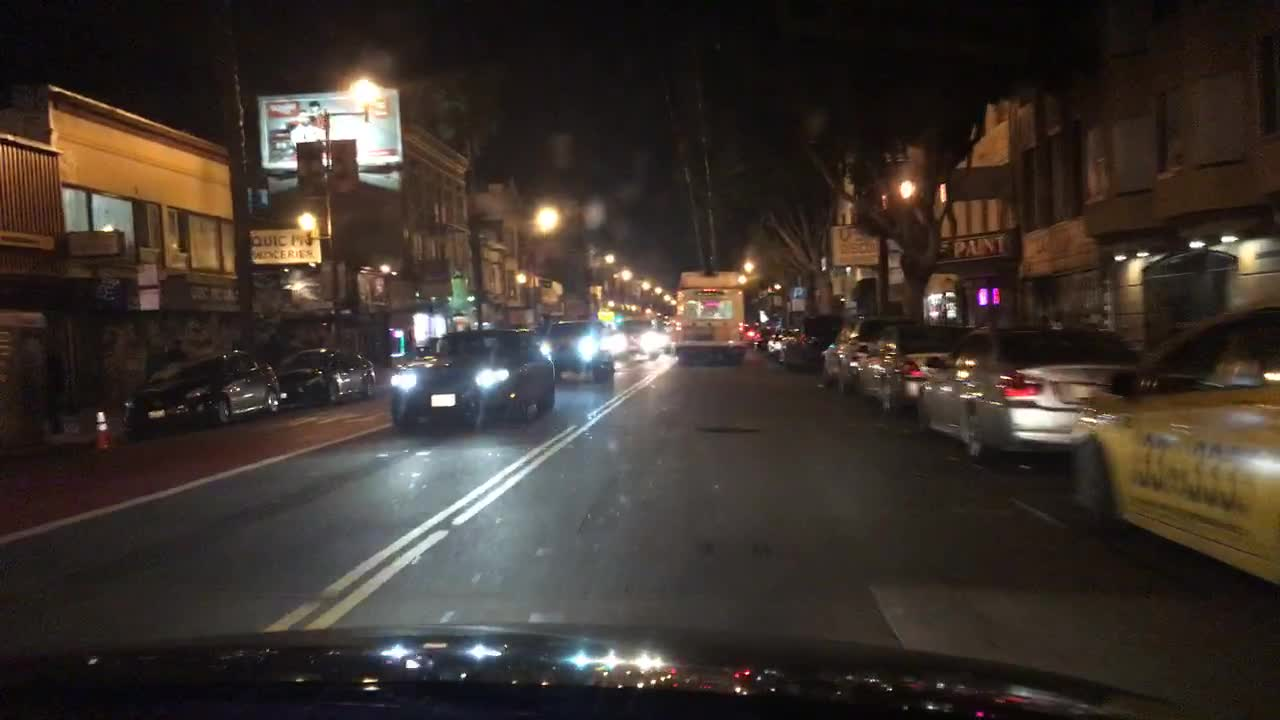bus: (675, 268, 747, 360)
car: (1073, 304, 1277, 580), (912, 322, 1142, 457), (391, 326, 553, 418), (125, 349, 279, 432), (845, 322, 975, 409), (813, 313, 912, 391), (277, 348, 376, 404), (540, 318, 614, 376), (782, 311, 848, 365), (613, 319, 658, 359), (769, 329, 796, 359), (656, 324, 675, 349), (754, 326, 772, 351), (743, 322, 758, 341)
person: (261, 333, 286, 355)
traffic light: (613, 307, 622, 326)
